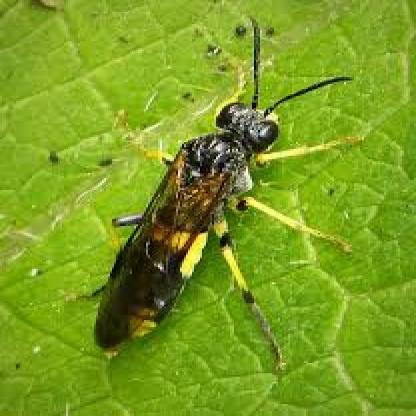sawfly: (90, 20, 362, 376)
